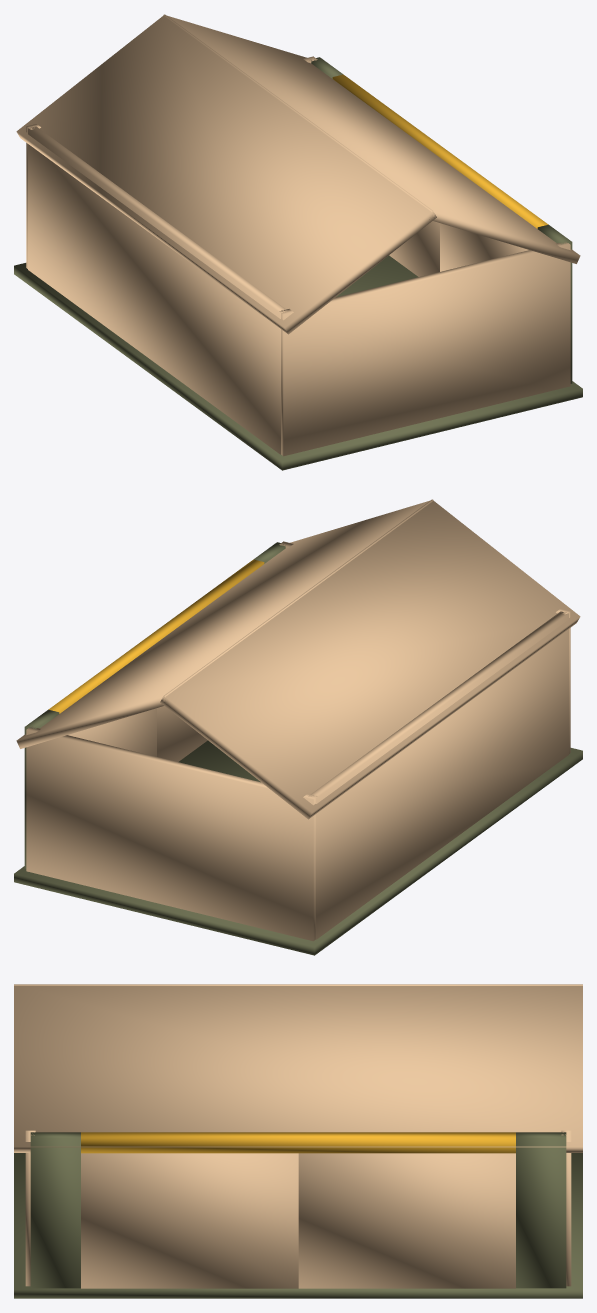
The model's file is prop.l10-field-tent.lod2.glb.
3 renders of one model, top to bottom at view 1: azimuth 30°, elevation 25°; view 2: azimuth 150°, elevation 25°; view 3: azimuth 270°, elevation 25°, orthographic. The views are drawn at different scales.
Parts seen in each view (by area): view 1: body, flapL, flapR; view 2: body, flapR, flapL; view 3: body, flapL, flapR.
Boxes of the visible parts, x1,y1,x2,y2 form: body: [14, 14, 582, 470]; flapL: [440, 223, 528, 271]; flapR: [389, 221, 439, 276]; body: [14, 499, 582, 955]; flapR: [68, 708, 156, 756]; flapL: [157, 706, 207, 761]; body: [14, 984, 582, 1298]; flapL: [81, 1153, 298, 1288]; flapR: [298, 1153, 515, 1288].
Bounding box in the file's own units: 4.4 × 3.12 × 6.8.
